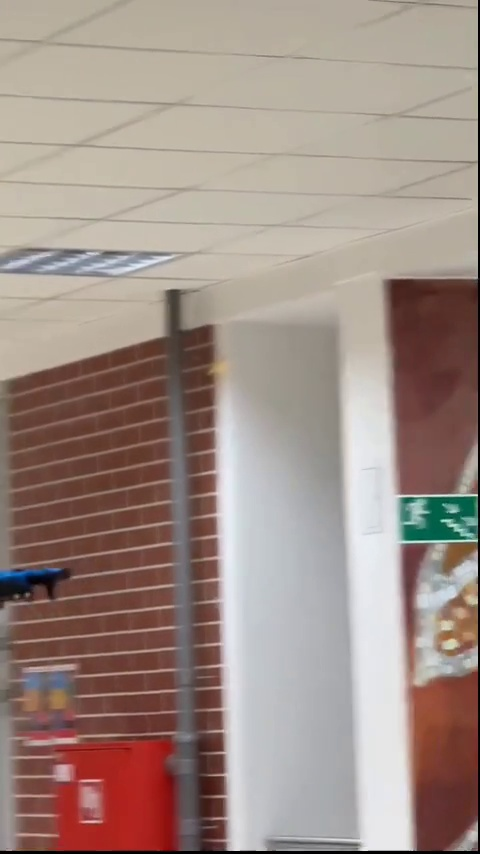drone: (0, 560, 70, 611)
